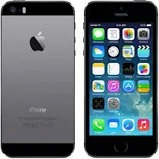iphone: (83, 1, 159, 159), (1, 1, 75, 159)
iphone6: (83, 1, 159, 159), (1, 1, 75, 159)
